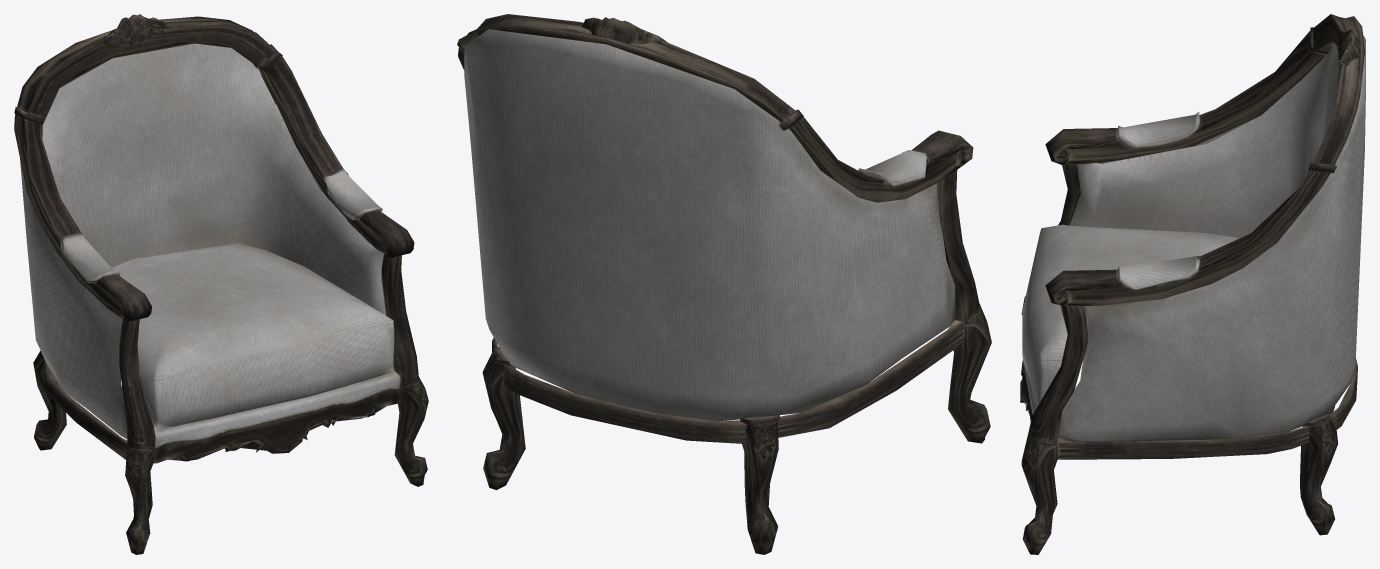
The model's file is ArmChair_01_lod2.glb.
The picture shows the model from 3 angles, left to right: view 1: azimuth 30°, elevation 25°; view 2: azimuth 150°, elevation 25°; view 3: azimuth 270°, elevation 25°; orthographic projection. The views are drawn at different scales.
Parts seen in each view (by area): view 1: ArmChair_01; view 2: ArmChair_01; view 3: ArmChair_01.
Boxes of the visible parts, x1,y1,x2,y2 form: ArmChair_01: (14, 14, 428, 554); ArmChair_01: (457, 14, 991, 554); ArmChair_01: (1020, 14, 1365, 554).
Size of the model in its own units: 0.8482 by 1.06 by 0.7552.
1 material, 1 textured.
